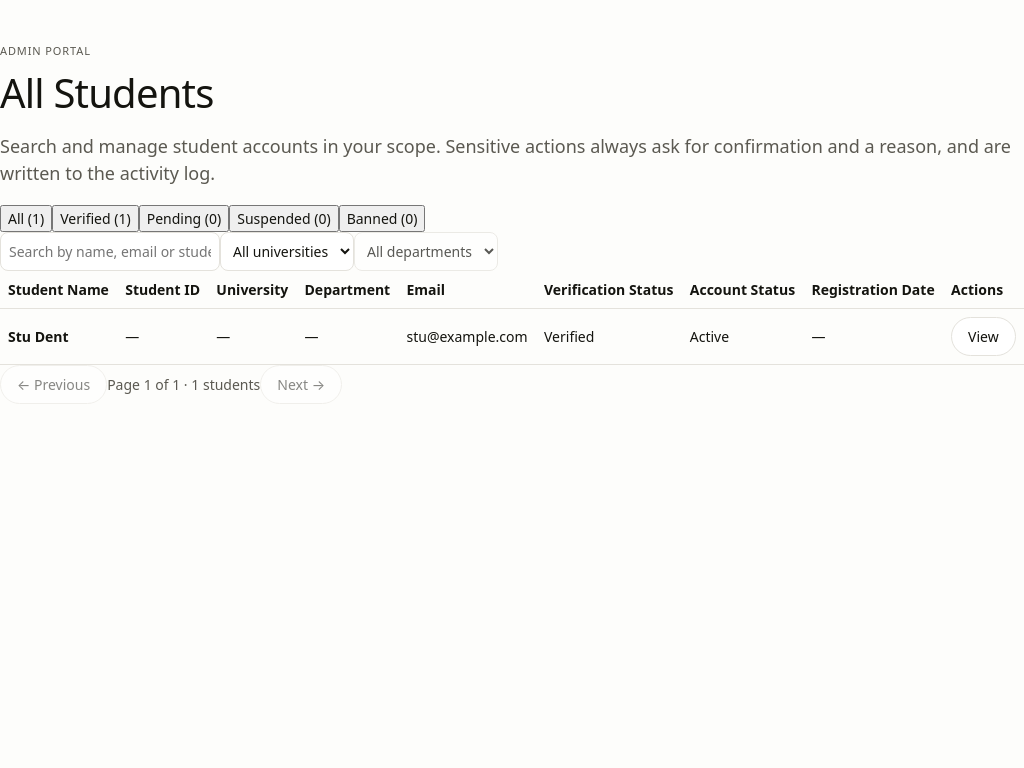
Scenario: Users role gating (D-118) › moderator sees recommend/revoke/reset actions but no Suspend or Ban
The width and height of the screenshot is (1024, 768).
Expected: the text "Stu Dent" is shown, [8,326,68,346]
Step 1. Click the button "View" → (983, 336), box [951,316,1016,356]
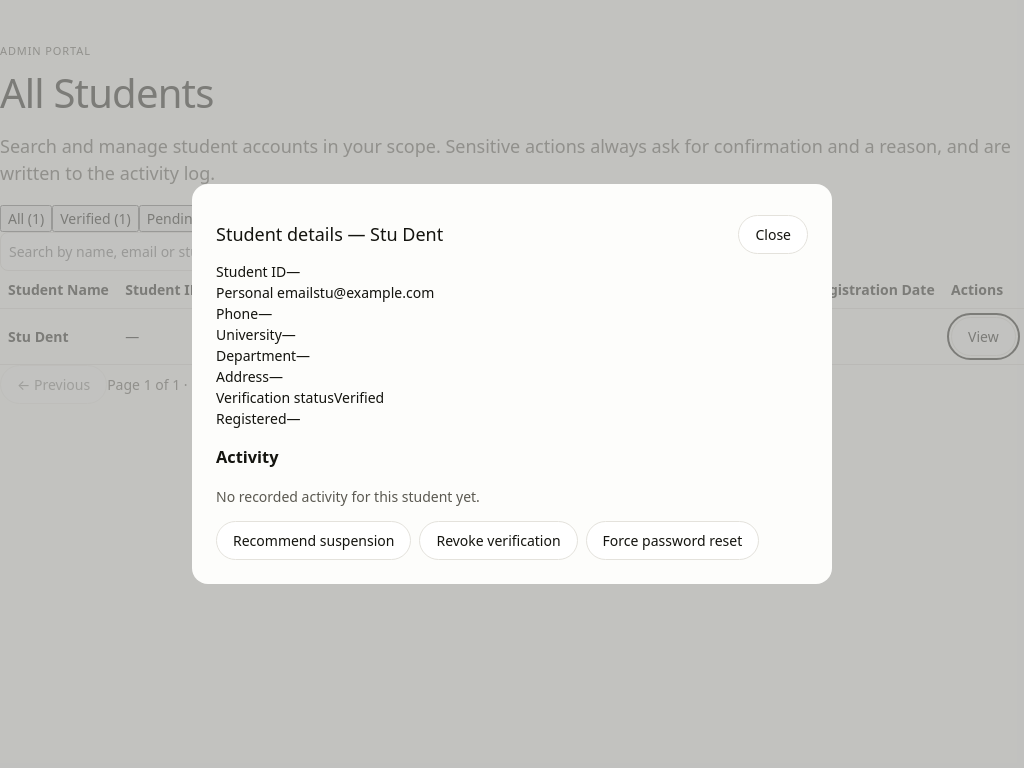
Expected: the button "Recommend suspension" is shown, [216,521,411,560]
Expected: the button "Revoke verification" is shown, [419,521,578,560]
Expected: the button "Force password reset" is shown, [586,521,759,560]
